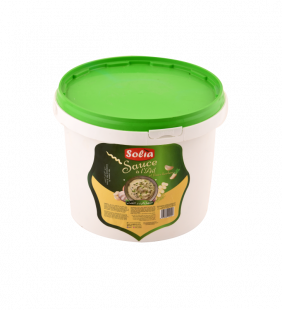SOLIA: (48, 50, 234, 248)
